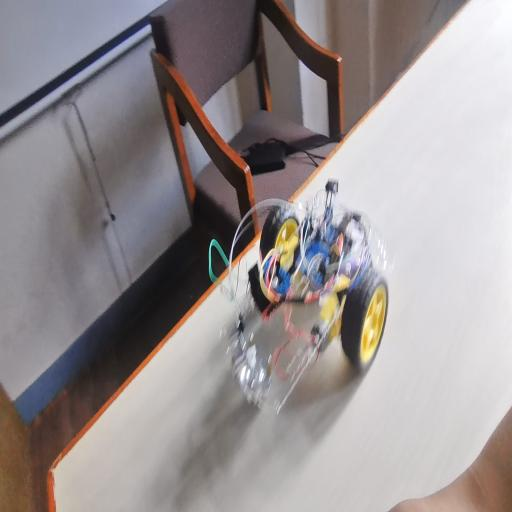car: (199, 201, 386, 374)
